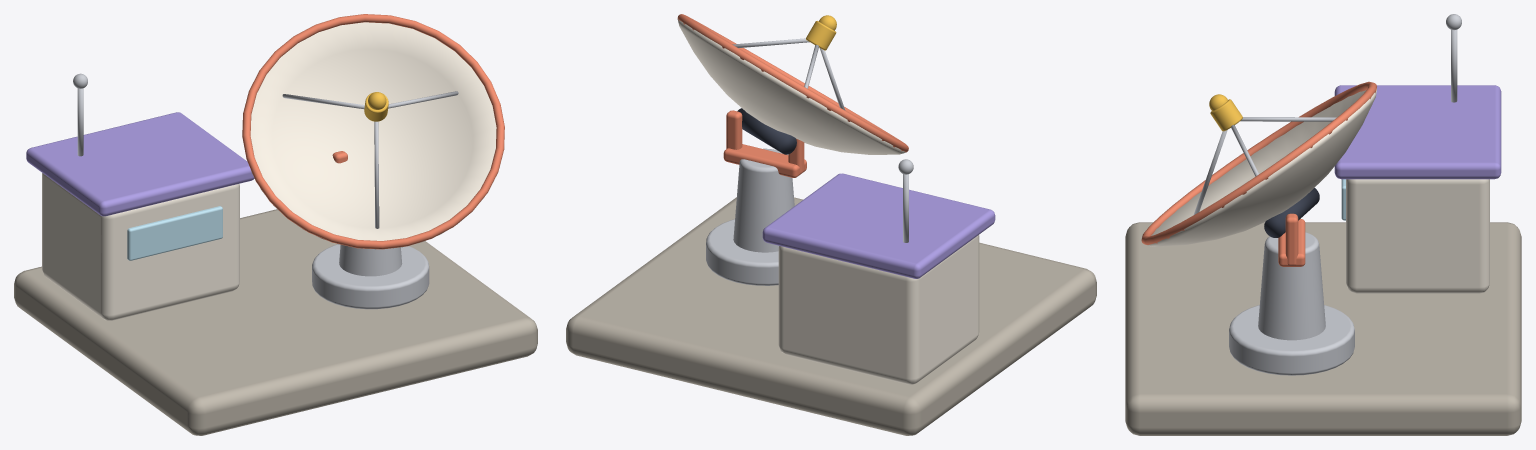
Rendered from sattrak.glb.
The picture shows the model from 3 angles, left to right: view 1: azimuth 30°, elevation 25°; view 2: azimuth 150°, elevation 25°; view 3: azimuth 270°, elevation 25°; orthographic projection. The views are drawn at different scales.
Visible parts, largest first — view 1: SatTrak, SatTrak_Bowl, SatTrak_Hut, SatTrak_HutRoof, SatTrak_Rim, SatTrak_Pedestal, SatTrak_HutWindow, SatTrak_Struts, SatTrak_Mast, SatTrak_Feed; view 2: SatTrak, SatTrak_Hut, SatTrak_HutRoof, SatTrak_Bowl, SatTrak_Pedestal, SatTrak_Rim, SatTrak_Yoke, SatTrak_Axle, SatTrak_Struts, SatTrak_Feed, SatTrak_Mast; view 3: SatTrak, SatTrak_Hut, SatTrak_HutRoof, SatTrak_Pedestal, SatTrak_Bowl, SatTrak_Rim, SatTrak_Yoke, SatTrak_Struts, SatTrak_Axle, SatTrak_Feed, SatTrak_Mast.
Part boxes in pixels (bbox=[...]): SatTrak: bbox=[14, 209, 537, 435]; SatTrak_Bowl: bbox=[250, 22, 496, 249]; SatTrak_Hut: bbox=[42, 173, 239, 320]; SatTrak_HutRoof: bbox=[26, 112, 254, 216]; SatTrak_Rim: bbox=[242, 14, 504, 249]; SatTrak_Pedestal: bbox=[312, 244, 429, 309]; SatTrak_HutWindow: bbox=[127, 206, 222, 260]; SatTrak_Struts: bbox=[282, 91, 458, 228]; SatTrak_Mast: bbox=[73, 73, 87, 156]; SatTrak_Feed: bbox=[364, 92, 388, 121]; SatTrak: bbox=[566, 197, 1096, 435]; SatTrak_Hut: bbox=[778, 235, 979, 384]; SatTrak_HutRoof: bbox=[762, 173, 995, 278]; SatTrak_Bowl: bbox=[677, 19, 905, 154]; SatTrak_Pedestal: bbox=[706, 148, 794, 285]; SatTrak_Rim: bbox=[677, 14, 908, 152]; SatTrak_Yoke: bbox=[723, 110, 806, 177]; SatTrak_Axle: bbox=[737, 108, 796, 154]; SatTrak_Struts: bbox=[732, 38, 845, 110]; SatTrak_Feed: bbox=[806, 15, 836, 50]; SatTrak_Mast: bbox=[898, 159, 913, 242]; SatTrak: bbox=[1125, 222, 1521, 435]; SatTrak_Hut: bbox=[1346, 179, 1489, 293]; SatTrak_HutRoof: bbox=[1334, 85, 1501, 179]; SatTrak_Pedestal: bbox=[1229, 232, 1354, 375]; SatTrak_Bowl: bbox=[1144, 88, 1376, 246]; SatTrak_Rim: bbox=[1141, 81, 1376, 244]; SatTrak_Yoke: bbox=[1278, 213, 1305, 266]; SatTrak_Struts: bbox=[1193, 117, 1336, 214]; SatTrak_Axle: bbox=[1264, 188, 1319, 237]; SatTrak_Feed: bbox=[1209, 94, 1242, 131]; SatTrak_Mast: bbox=[1446, 14, 1461, 102].
Size of the model in its own units: 4.85 by 3.7 by 4.4.
